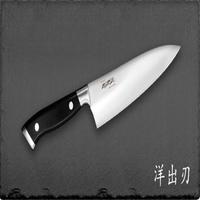knife: (22, 37, 182, 155)
